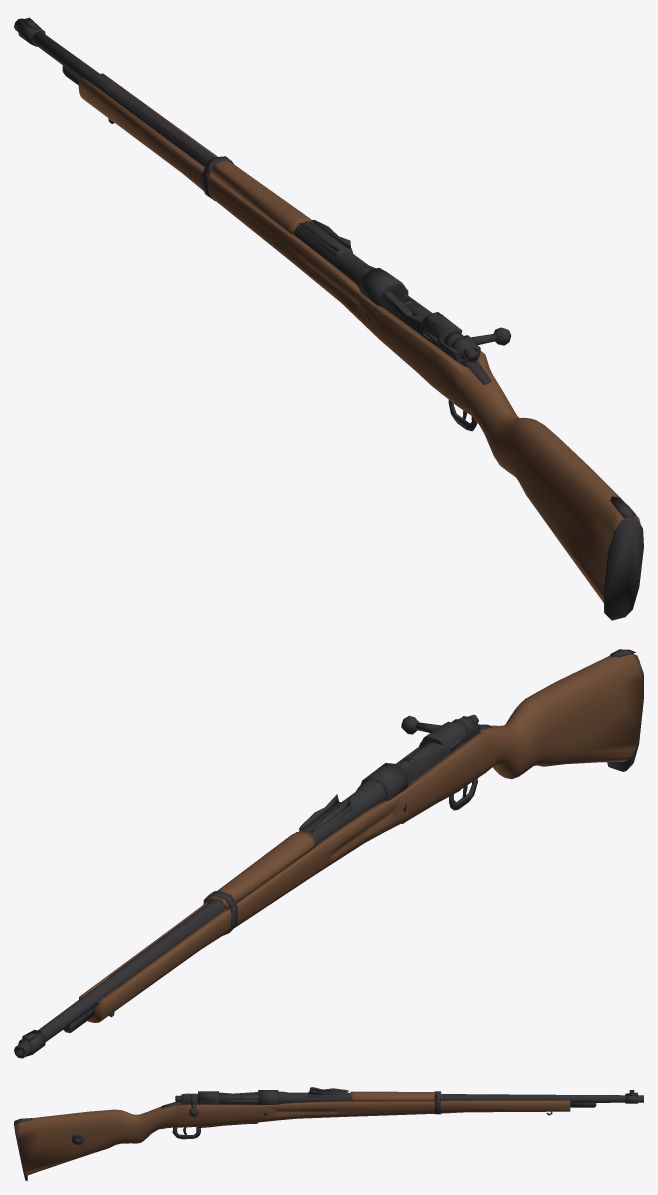
The model's file is enemy_mauser98.glb.
3 views of the same model, one above another, from view 1: azimuth 30°, elevation 25°; view 2: azimuth 150°, elevation 25°; view 3: azimuth 270°, elevation 25° (orthographic). The views are drawn at different scales.
Parts seen in each view (by area): view 1: Ahsap, Metal; view 2: Ahsap, Metal; view 3: Ahsap, Metal.
Part boxes in pixels (x1,y1,x2,y2): Ahsap: [78, 73, 640, 602]; Metal: [14, 17, 643, 620]; Ahsap: [79, 653, 643, 1022]; Metal: [14, 649, 643, 1058]; Ahsap: [15, 1091, 570, 1175]; Metal: [14, 1087, 643, 1180].
Bounding box in the file's own units: 0.086 × 0.1975 × 1.25.
